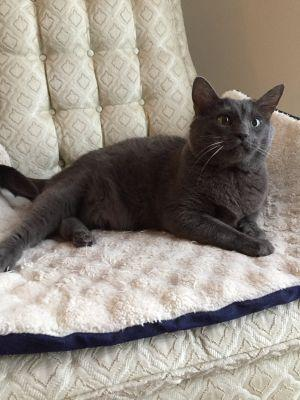rblue: (180, 65, 287, 180)
